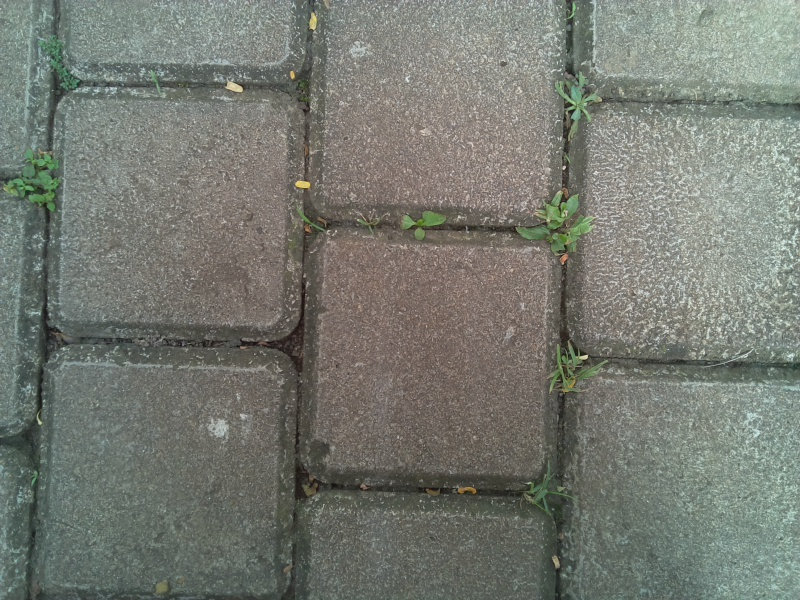Weed: (512, 189, 589, 260), (1, 145, 69, 217), (547, 339, 600, 398), (36, 32, 83, 95), (556, 69, 603, 127), (524, 460, 565, 517), (394, 204, 449, 246), (346, 204, 386, 242), (289, 202, 327, 236), (24, 463, 45, 494)
